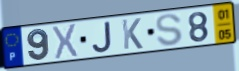8: (187, 11, 211, 43)
9: (25, 27, 51, 63)
J: (91, 20, 113, 54)
K: (120, 17, 144, 51)
S: (154, 13, 184, 48)
X: (51, 22, 79, 61)
